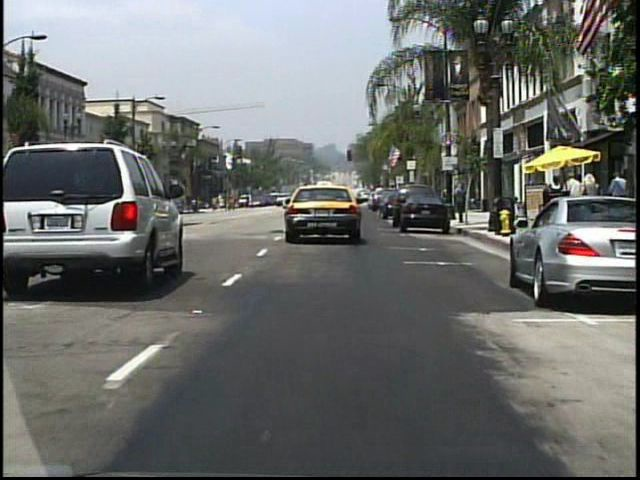person: (606, 170, 631, 228), (579, 170, 601, 225), (563, 171, 583, 225), (544, 174, 563, 225), (245, 193, 252, 208)
